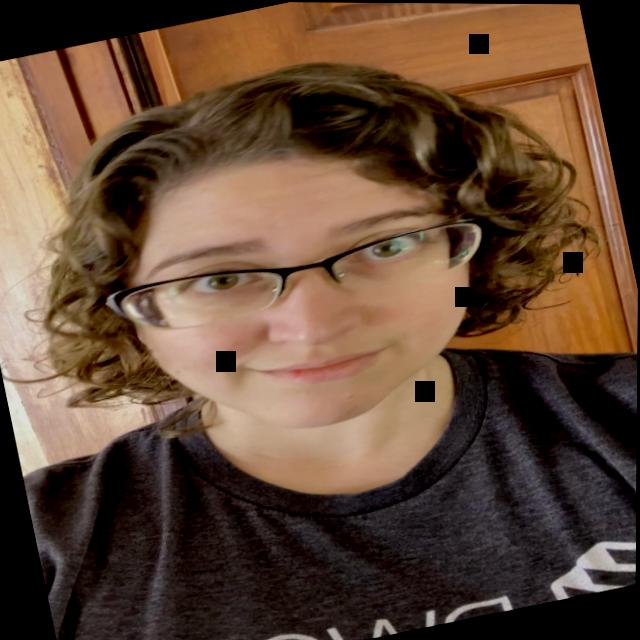NO-Mask: (91, 106, 512, 470)
